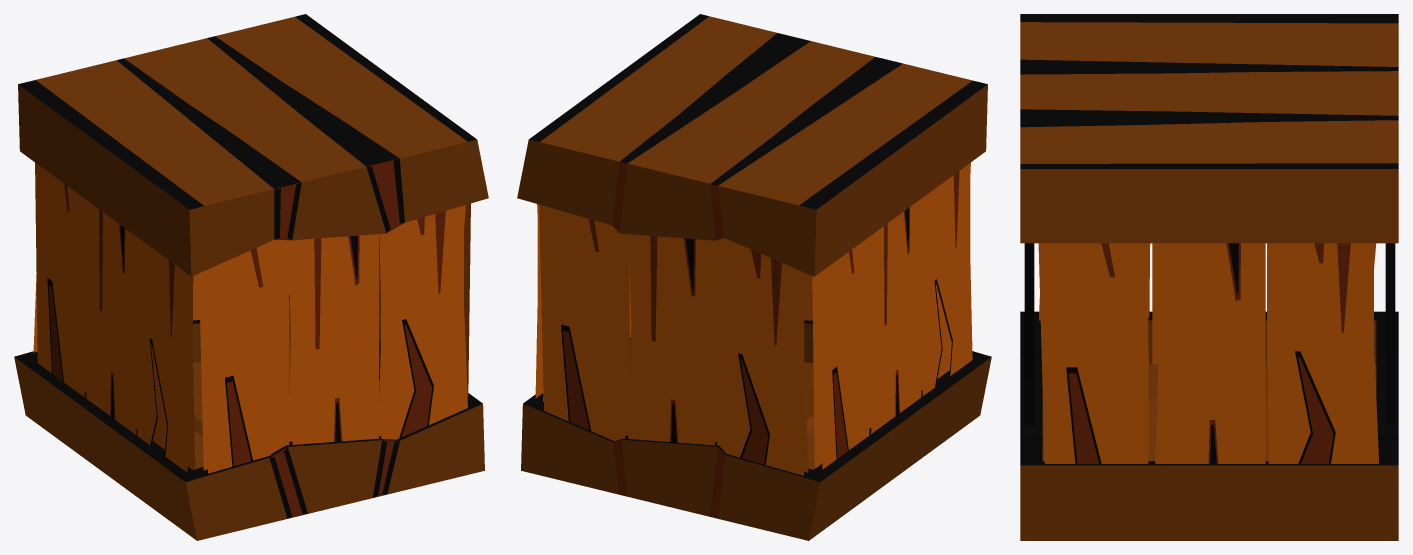
The model's file is crate box.fbx.
The picture shows the model from 3 angles, left to right: view 1: azimuth 30°, elevation 25°; view 2: azimuth 150°, elevation 25°; view 3: azimuth 270°, elevation 25°; orthographic projection. The views are drawn at different scales.
Visible parts, largest first — view 1: Cube.015, Cube.012, Cube.016, Cube.001, Cube.002, Cube.018, Cube.003, Cube.014, Cube.007, Cube.008, Cube.009; view 2: Cube.018, Cube.012, Cube.016, Cube.015, Cube.004, Cube.006, Cube.005, Cube.007, Cube.008, Cube.014, Cube.011; view 3: Cube.012, Cube.016, Cube.015, Cube.018, Cube.010, Cube.009, Cube.011, Cube.003, Cube.004, Cube.008.
Boxes of the visible parts, bbox=[...] form: Cube.015: bbox=[132, 98, 488, 276]; Cube.012: bbox=[14, 295, 484, 540]; Cube.016: bbox=[65, 49, 419, 234]; Cube.001: bbox=[199, 239, 289, 473]; Cube.002: bbox=[289, 234, 378, 444]; Cube.018: bbox=[18, 14, 352, 185]; Cube.003: bbox=[379, 205, 467, 439]; Cube.014: bbox=[137, 239, 195, 472]; Cube.007: bbox=[35, 162, 87, 396]; Cube.008: bbox=[86, 200, 139, 434]; Cube.009: bbox=[464, 203, 470, 396]; Cube.018: bbox=[517, 105, 863, 276]; Cube.012: bbox=[521, 320, 991, 540]; Cube.016: bbox=[576, 55, 931, 241]; Cube.015: bbox=[644, 14, 987, 192]; Cube.004: bbox=[539, 204, 629, 441]; Cube.006: bbox=[716, 238, 808, 475]; Cube.005: bbox=[628, 234, 719, 445]; Cube.007: bbox=[812, 237, 869, 469]; Cube.008: bbox=[869, 199, 921, 433]; Cube.014: bbox=[921, 162, 972, 395]; Cube.011: bbox=[535, 204, 543, 401]; Cube.012: bbox=[1020, 311, 1398, 540]; Cube.016: bbox=[1145, 14, 1304, 243]; Cube.015: bbox=[1020, 14, 1173, 243]; Cube.018: bbox=[1256, 14, 1398, 243]; Cube.010: bbox=[1155, 243, 1265, 463]; Cube.009: bbox=[1038, 243, 1148, 463]; Cube.011: bbox=[1267, 243, 1378, 463]; Cube.003: bbox=[1024, 243, 1034, 425]; Cube.004: bbox=[1385, 243, 1395, 423]; Cube.008: bbox=[1152, 243, 1158, 364].
Size of the model in its own units: 215 by 226 by 211.
